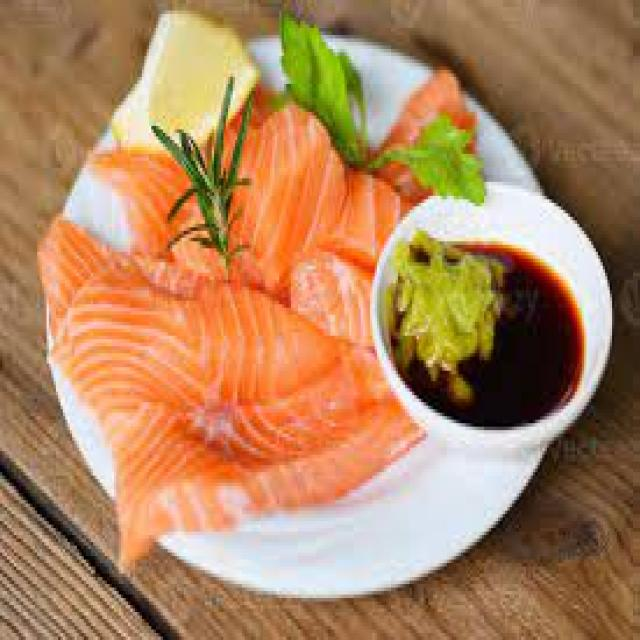Fish: (71, 269, 386, 498)
